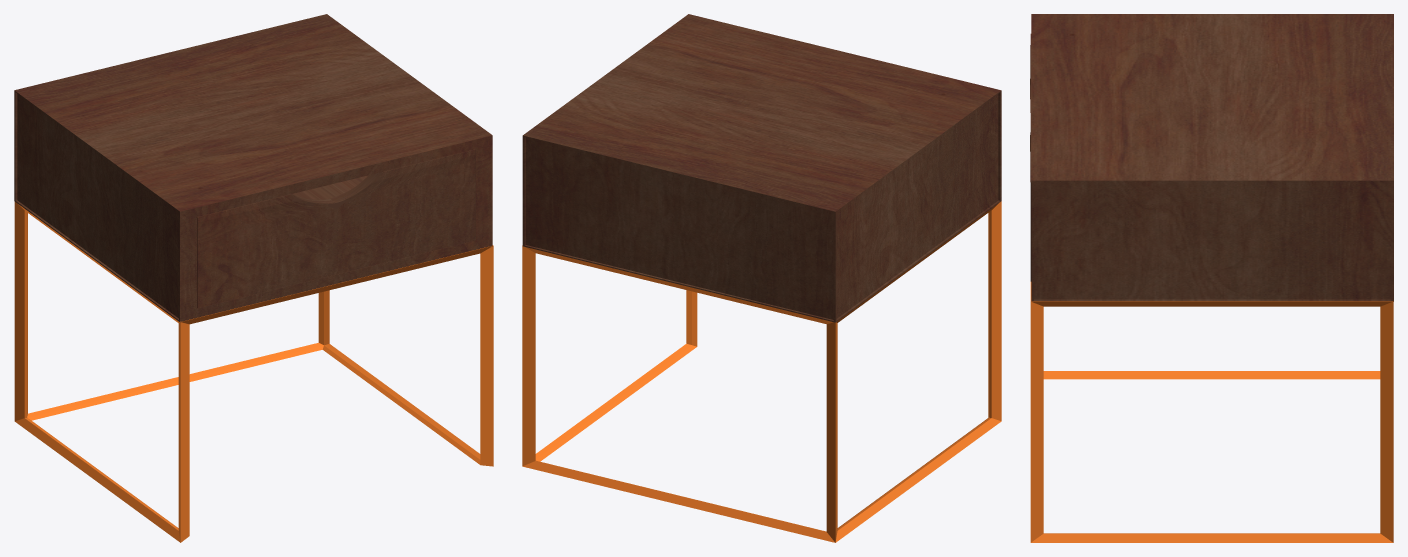
Rendered from Bed Side Table.obj.
3 renders of one model, left to right at view 1: azimuth 30°, elevation 25°; view 2: azimuth 150°, elevation 25°; view 3: azimuth 270°, elevation 25°, orthographic. The views are drawn at different scales.
Parts seen in each view (by area): view 1: Bed_Side_Table_Cube.001, Draw_Cube.002, Legs_Cube.003; view 2: Bed_Side_Table_Cube.001, Legs_Cube.003; view 3: Bed_Side_Table_Cube.001, Legs_Cube.003, Draw_Cube.002.
Part boxes in pixels (x1,y1,x2,y2): Bed_Side_Table_Cube.001: (14,14,492,322); Draw_Cube.002: (197,149,475,308); Legs_Cube.003: (14,201,493,542); Bed_Side_Table_Cube.001: (522,14,1001,322); Legs_Cube.003: (522,201,1001,542); Bed_Side_Table_Cube.001: (1031,14,1393,301); Legs_Cube.003: (1030,282,1393,542); Draw_Cube.002: (1030,34,1031,281).
Size of the model in its own units: 3.55 by 3.59 by 3.27.
2 materials, 1 textured.
